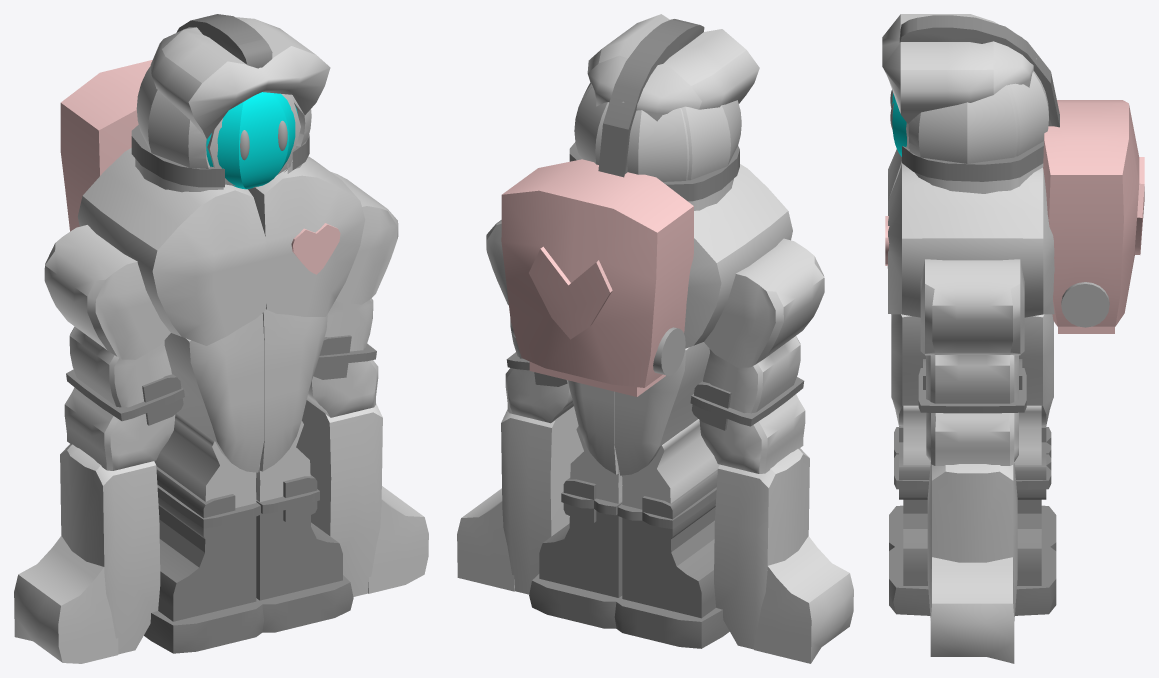
File: robot.glb
3 renders of one model, left to right at view 1: azimuth 30°, elevation 25°; view 2: azimuth 150°, elevation 25°; view 3: azimuth 270°, elevation 25°, orthographic. The views are drawn at different scales.
Bounding box in the file's own units: 6.43 × 9.55 × 4.07.
